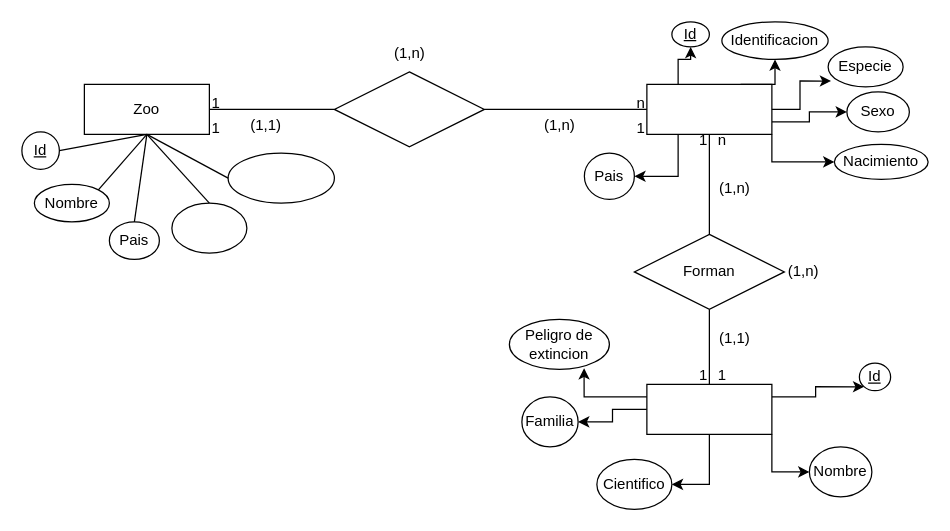
Image size: 950x531. Some labels were removed from this diagram. Here are the shapes that lost their labels. From the top down, the box of each, then its label:
(333, 71, 484, 147): Tiene
(646, 83, 772, 134): Animales
(227, 152, 334, 203): Presupuesto
(171, 202, 247, 253): Tamaño
(646, 383, 772, 434): Especies
